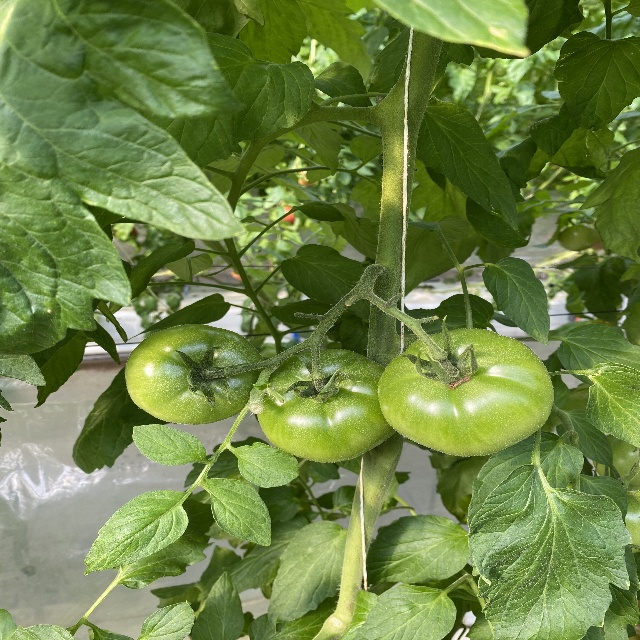b_green: (378, 328, 555, 457), (256, 348, 398, 463), (125, 323, 267, 425)
